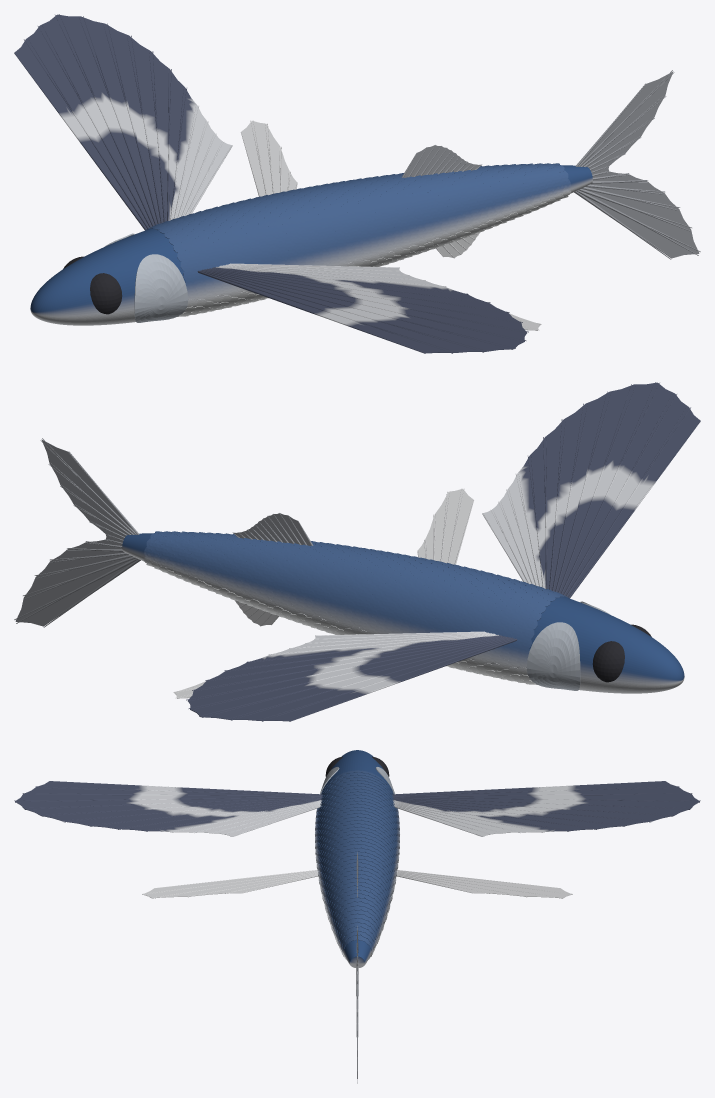
The model's file is fish-adult-fao.glb.
3 renders of one model, top to bottom at view 1: azimuth 30°, elevation 25°; view 2: azimuth 150°, elevation 25°; view 3: azimuth 270°, elevation 25°, orthographic. The views are drawn at different scales.
Visible parts, largest first — view 1: scales, pectoral_L, pectoral_R, caudal, body, operculum_R, pelvic_L, dorsal, eye_R; view 2: scales, pectoral_R, pectoral_L, caudal, body, operculum_L, pelvic_R, dorsal, eye_L; view 3: scales, pectoral_L, pectoral_R, body, pelvic_L, pelvic_R.
Part boxes in pixels (left/top/right/bottom): scales: left=145, top=163, right=571, bottom=316; pectoral_L: left=14, top=14, right=232, bottom=230; pectoral_R: left=197, top=263, right=528, bottom=353; caudal: left=574, top=70, right=700, bottom=259; body: left=30, top=165, right=592, bottom=325; operculum_R: left=134, top=254, right=188, bottom=322; pelvic_L: left=241, top=120, right=297, bottom=196; dorsal: left=401, top=145, right=482, bottom=177; eye_R: left=90, top=273, right=122, bottom=314; scales: left=143, top=531, right=569, bottom=684; pectoral_R: left=482, top=382, right=700, bottom=598; pectoral_L: left=186, top=631, right=517, bottom=721; caudal: left=14, top=438, right=140, bottom=627; body: left=122, top=533, right=684, bottom=693; operculum_L: left=526, top=622, right=580, bottom=690; pelvic_R: left=417, top=488, right=473, bottom=564; dorsal: left=232, top=513, right=313, bottom=545; eye_L: left=592, top=641, right=624, bottom=682; scales: left=315, top=770, right=399, bottom=959; pectoral_L: left=392, top=781, right=700, bottom=836; pectoral_R: left=14, top=781, right=322, bottom=836; body: left=316, top=750, right=398, bottom=967; pelvic_L: left=397, top=870, right=572, bottom=898; pelvic_R: left=142, top=870, right=317, bottom=898.
Size of the model in its own units: 0.1912 by 0.0525 by 0.2267.
